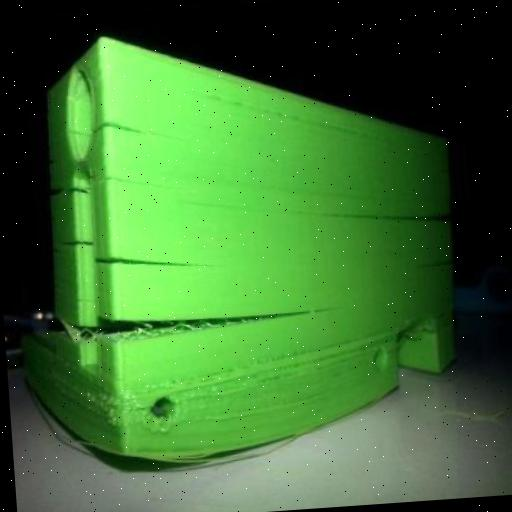cracks: (51, 276, 328, 376), (48, 107, 199, 192), (49, 217, 221, 290), (333, 190, 460, 239), (402, 248, 466, 278)
